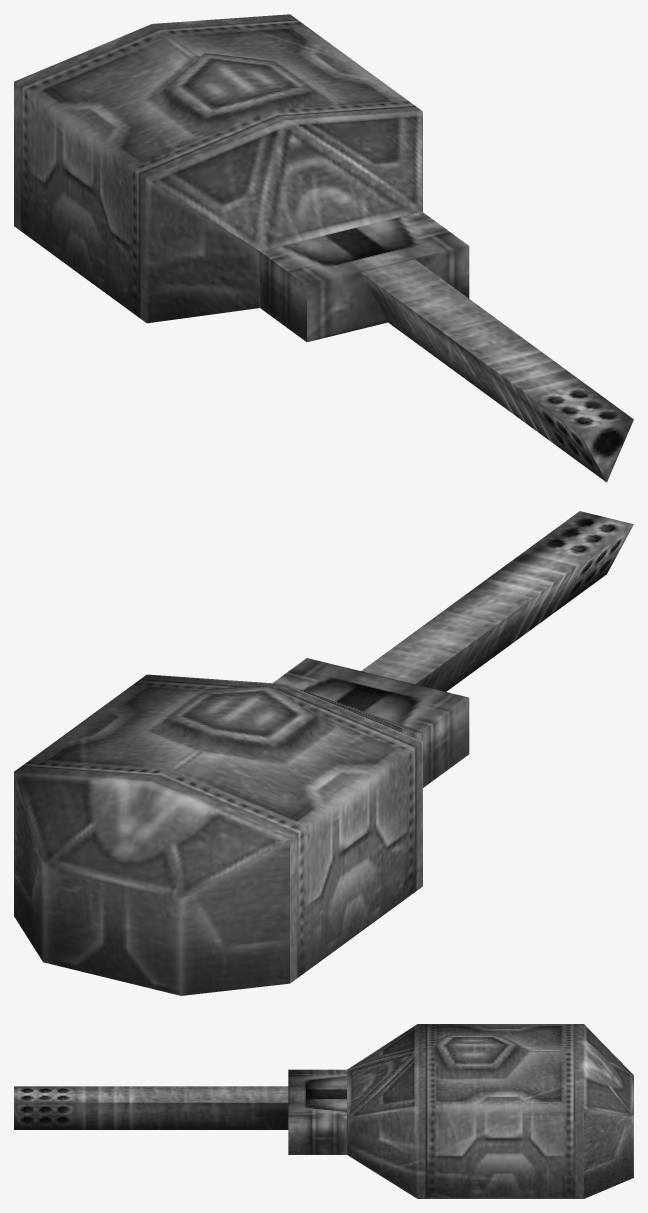
The model's file is legacy.gltf.
3 views of the same model, one above another, from view 1: azimuth 30°, elevation 25°; view 2: azimuth 150°, elevation 25°; view 3: azimuth 270°, elevation 25° (orthographic). The views are drawn at different scales.
Visible parts, largest first — view 1: turret; view 2: turret; view 3: turret.
Boxes of the visible parts, x1,y1,x2,y2 form: turret: [14, 14, 633, 482]; turret: [14, 511, 633, 995]; turret: [14, 1024, 633, 1198].
Size of the model in its own units: 1.68 by 1.04 by 5.22.
1 material, 1 textured.
